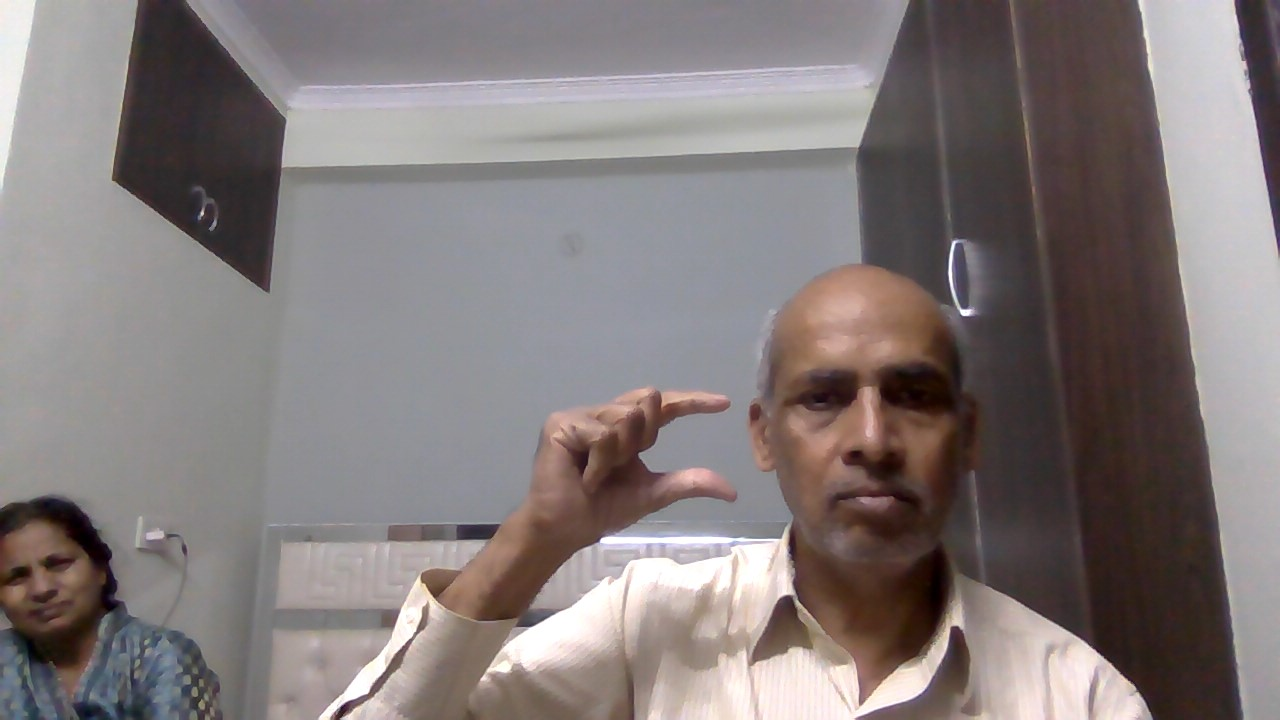Paste: (519, 387, 745, 548)
